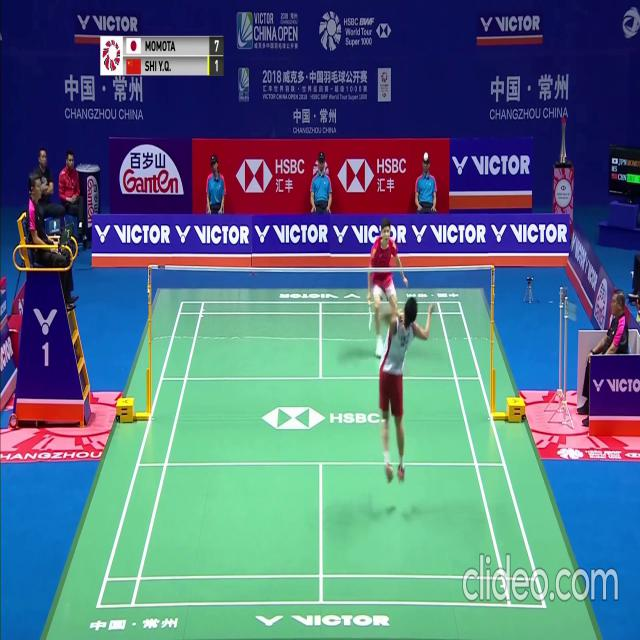Shuttlecock: (424, 153, 428, 160)
